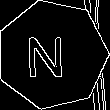N_N: (32, 29, 73, 80)
